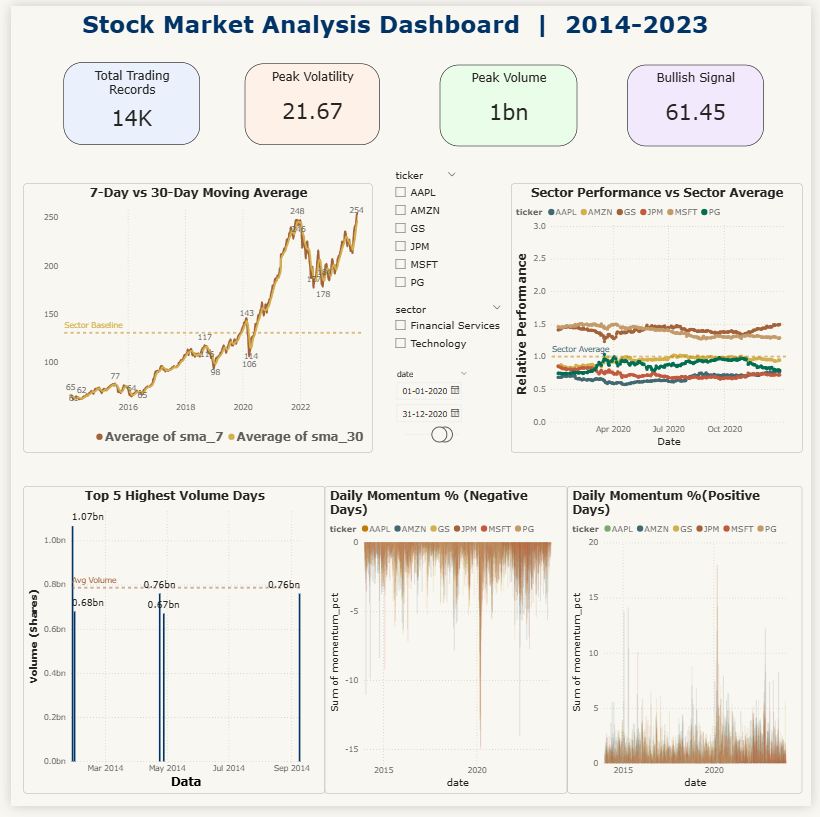

The dashboard page shown, as its layout file describes it:
{"tool":"powerbi","page":{"name":"Page 1","canvas":[1280,1280],"ordinal":0},"visuals":[{"type":"card","title":"Total Trading Records","fields":{"Values":["7,30_bull_berr.Total Records"]},"box":[84,90,218,132],"z":0},{"type":"card","title":"Peak Volatility","fields":{"Values":["Max(new_duplicates.Volatility_Pct)"]},"box":[374,92,216,130],"z":1000},{"type":"card","title":"Peak Volume","fields":{"Values":["Max(new_volumeAnalysis.Volume)"]},"box":[686,94,220,130],"z":2000},{"type":"card","title":"Bullish Signal","fields":{"Values":["7,30_bull_berr.Bullish % Record"]},"box":[986,94,218,130],"z":3000},{"type":"lineChart","title":"7-Day vs 30-Day Moving Average","fields":{"Category":["7,30_bull_berr.date"],"Y":["Avg(7,30_bull_berr.sma_7)","Avg(7,30_bull_berr.sma_30)"]},"box":[20,284,558,430],"z":4000},{"type":"clusteredColumnChart","title":"Daily Momentum %(Positive Days)","fields":{"Category":["new_momentum_pct.date"],"Y":["Sum(new_momentum_pct.momentum_pct)"],"Series":["new_momentum_pct.ticker"]},"box":[890,768,376,492],"z":5000},{"type":"clusteredColumnChart","title":"Daily Momentum % (Negative Days)","fields":{"Category":["new_momentum_pct.date"],"Y":["Sum(new_momentum_pct.momentum_pct)"],"Series":["new_momentum_pct.ticker"]},"box":[502,768,388,492],"z":6000},{"type":"clusteredColumnChart","title":" Top 5 Highest Volume Days","fields":{"Y":["Sum(new_volumeAnalysis.Volume)"],"Category":["new_volumeAnalysis.Date"]},"box":[20,768,482,492],"z":7000},{"type":"lineChart","title":"Sector Performance vs  Sector Average","fields":{"Y":["Avg(sectoravg_relativeperform.relative_performance)"],"Category":["sectoravg_relativeperform.date"],"Series":["sectoravg_relativeperform.ticker"]},"box":[800,284,466,430],"z":8000},{"type":"slicer","fields":{"Values":["sectoravg_relativeperform.date"]},"box":[604,576,138,138],"z":9000},{"type":"slicer","fields":{"Values":["sectoravg_relativeperform.sector"]},"box":[602,470,194,92],"z":10000},{"type":"textbox","box":[10,0,1210,72],"z":11000},{"type":"slicer","fields":{"Values":["7,30_bull_berr.ticker"]},"box":[602,256,122,214],"z":12000}]}

Visuals, with their boxes in screenshot pixels (x1, y1, x2, y2), scaled from the page's 1280x1280 canvas onto the 820x817 screenshot:
"Total Trading Records" card: crop(54, 57, 193, 142)
"Peak Volatility" card: crop(240, 59, 378, 142)
"Peak Volume" card: crop(439, 60, 580, 143)
"Bullish Signal" card: crop(632, 60, 771, 143)
"7-Day vs 30-Day Moving Average" lineChart: crop(13, 181, 370, 456)
"Daily Momentum %(Positive Days)" clusteredColumnChart: crop(570, 490, 811, 804)
"Daily Momentum % (Negative Days)" clusteredColumnChart: crop(322, 490, 570, 804)
" Top 5 Highest Volume Days" clusteredColumnChart: crop(13, 490, 322, 804)
"Sector Performance vs  Sector Average" lineChart: crop(512, 181, 811, 456)
slicer - sectoravg_relativeperform.date: crop(387, 368, 475, 456)
slicer - sectoravg_relativeperform.sector: crop(386, 300, 510, 359)
textbox: crop(6, 0, 782, 46)
slicer - 7,30_bull_berr.ticker: crop(386, 163, 464, 300)
